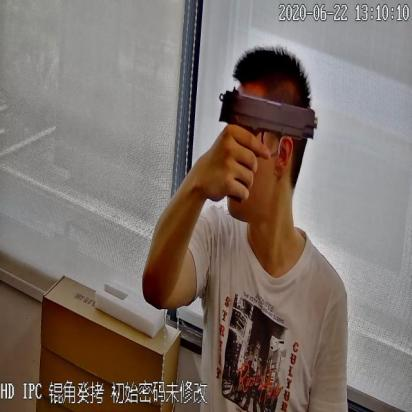Gun: (205, 79, 313, 220)
